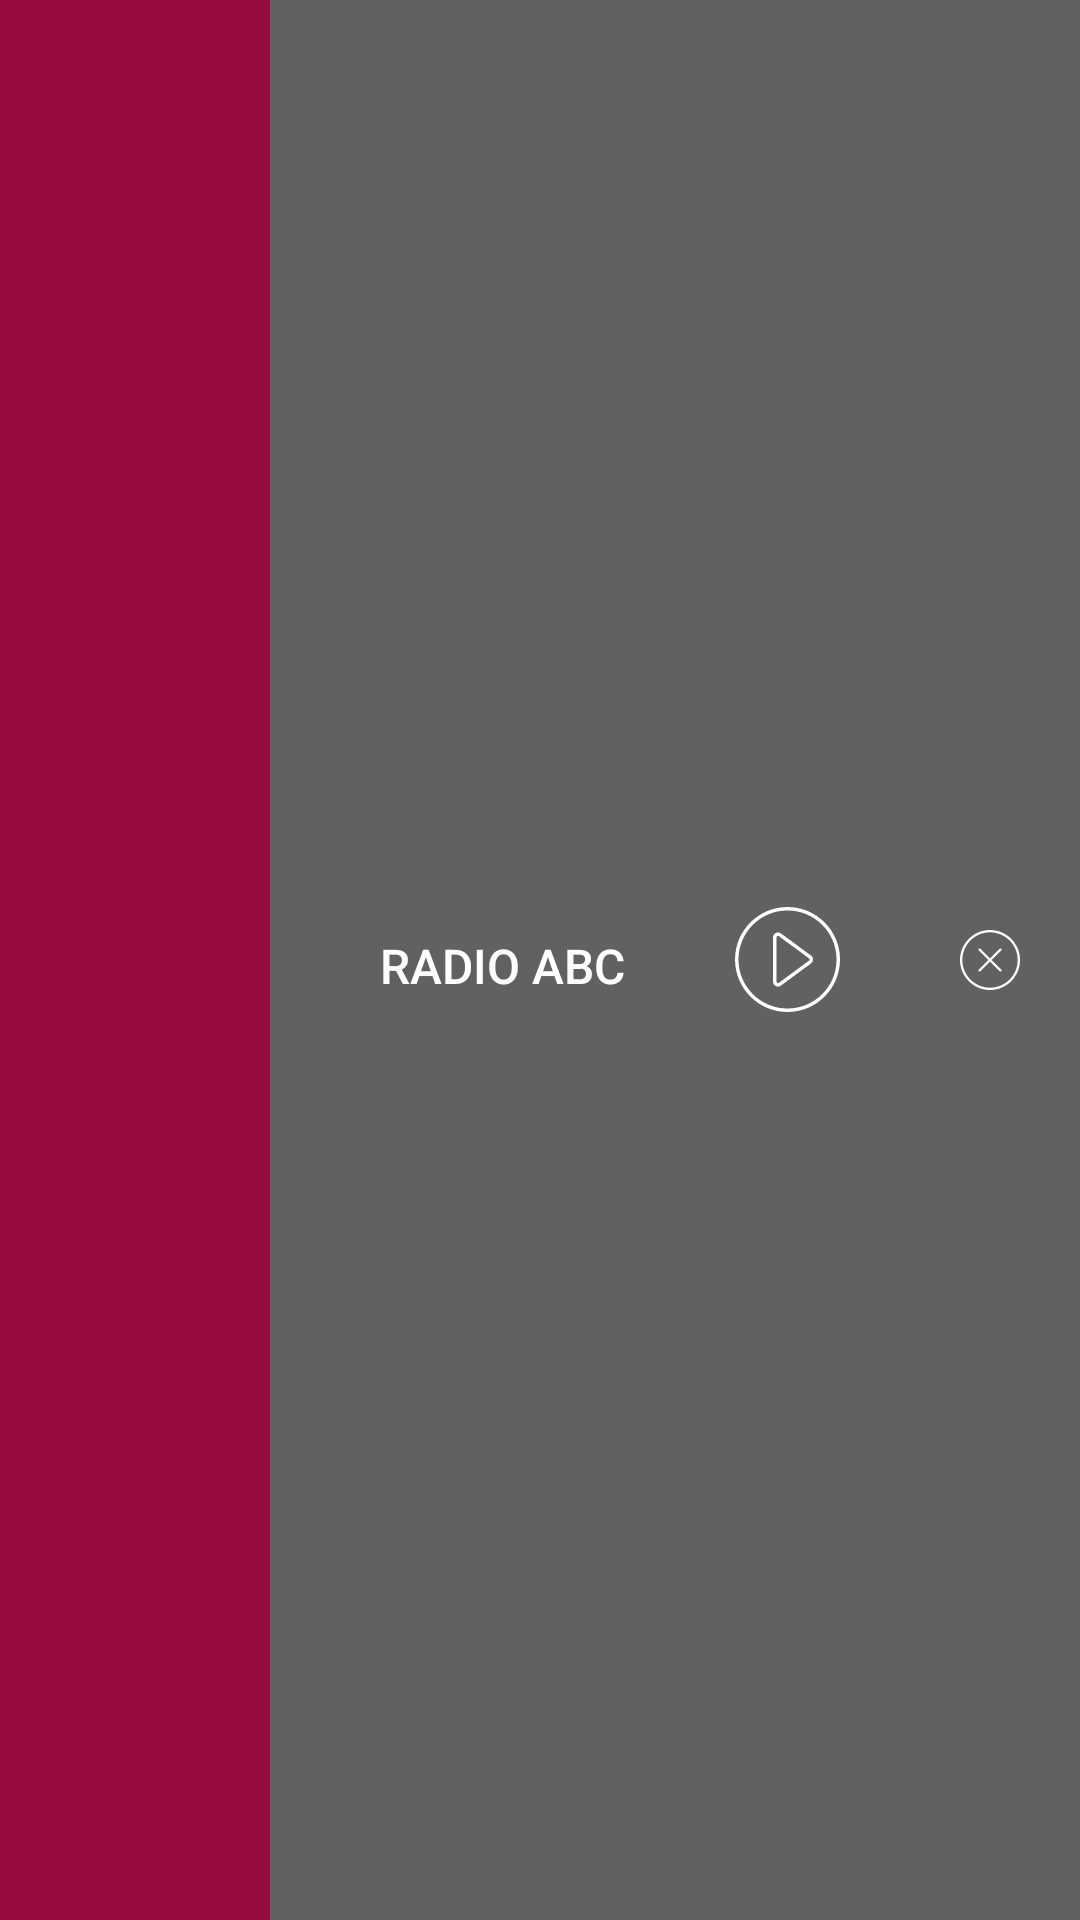

Named icons in this screenshot (1080*1920) and their centers, (x,y):
clear: (990,960)
play notify: (787,959)
